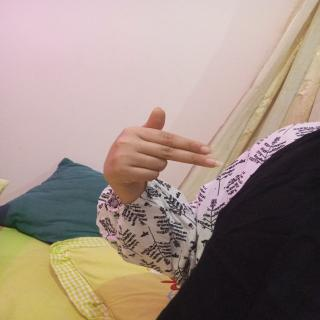GHAYN: (95, 104, 224, 194)
